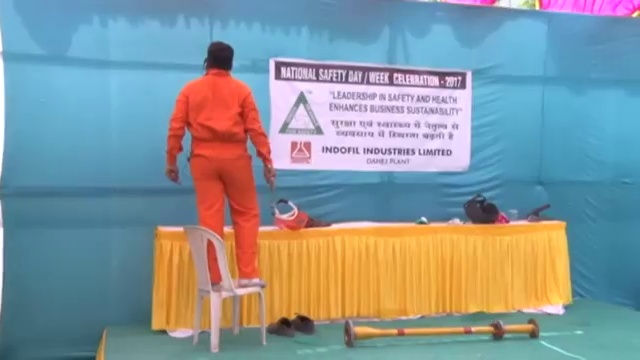helmet_off: (202, 39, 235, 72)
person: (165, 40, 278, 287)
